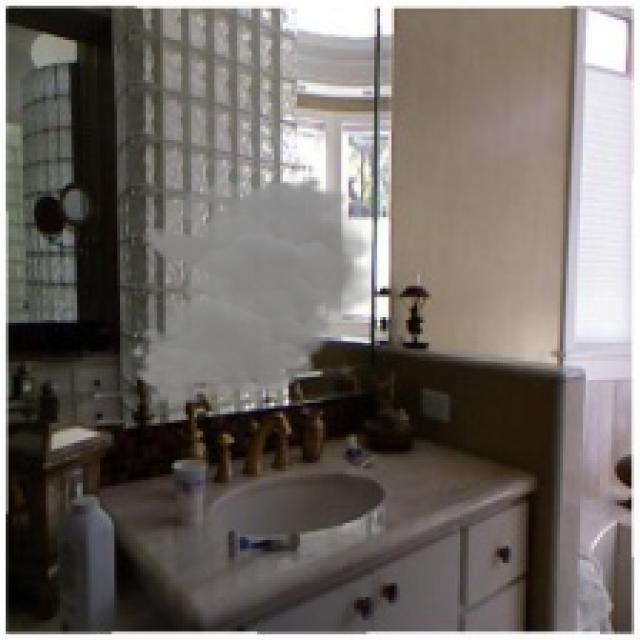smoke: (128, 174, 383, 406)
